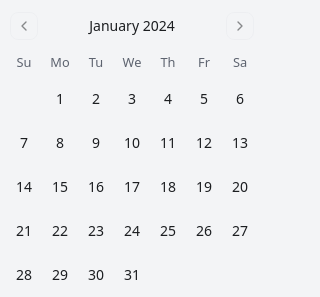
Test: Calendar › Navigation › navigates to next month
Click the button named "Go to next month" at (240, 26), box [226,12,254,40]
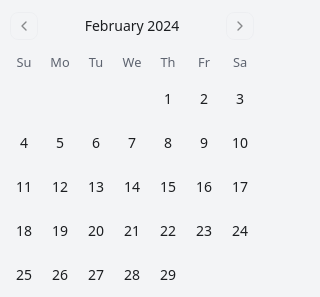
Expected: the text "February 2024" is shown, [85,16,179,36]
